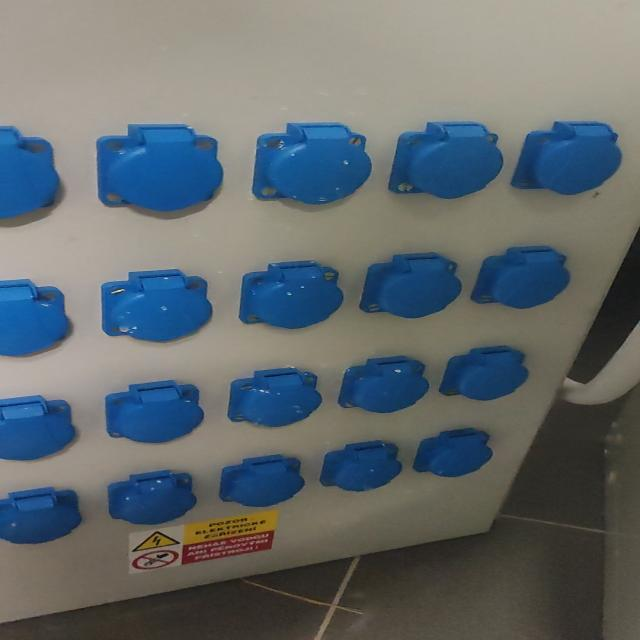house plug covered: (95, 124, 224, 212), (252, 122, 372, 205), (388, 121, 504, 199), (512, 119, 623, 197), (100, 268, 214, 343), (239, 260, 344, 329), (103, 383, 202, 447), (472, 248, 568, 310), (362, 256, 459, 317), (0, 126, 63, 219), (0, 279, 72, 357), (226, 371, 320, 429), (0, 395, 79, 461), (338, 357, 430, 413), (439, 345, 529, 401), (0, 487, 85, 545), (108, 470, 197, 524), (219, 454, 305, 507), (319, 441, 402, 491), (413, 428, 493, 477)
